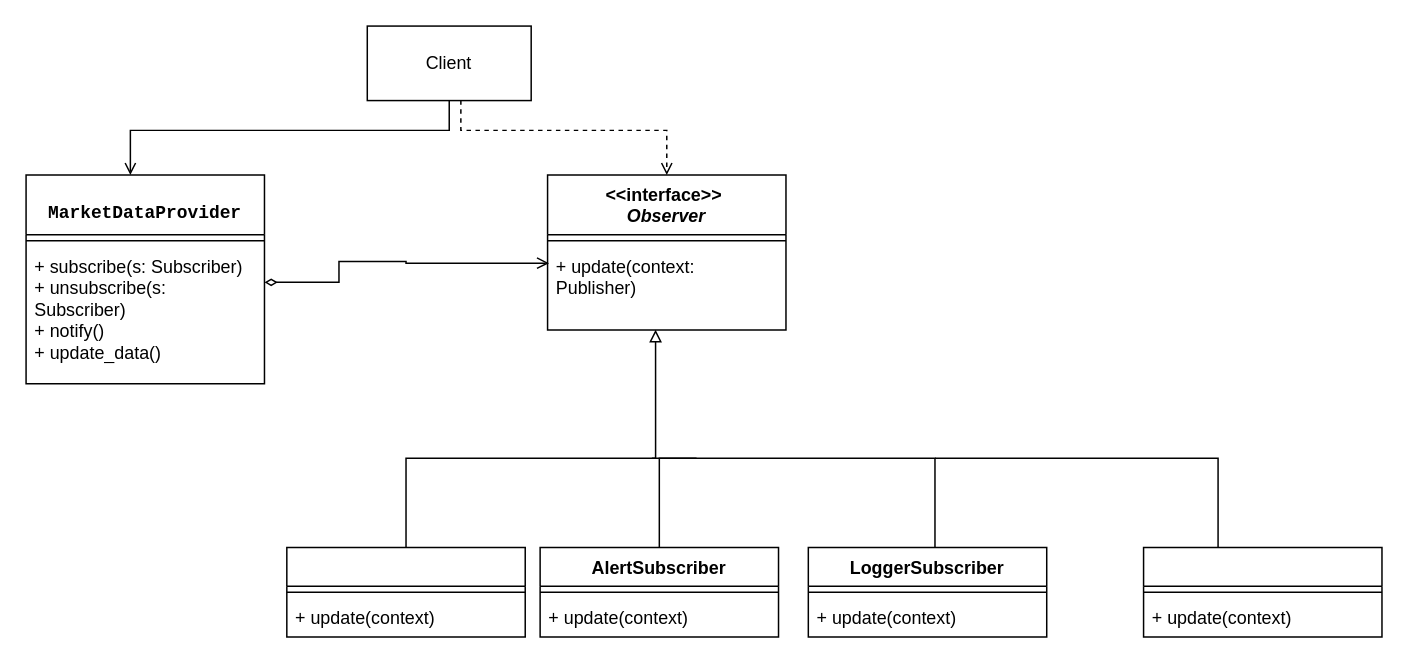
Some shapes in this 1408 by 668 pixel diagram are drawn without their labels. The box of each missing label's shape, as (x1, y1, x2, y2) in pixels:
GraphSubscriber: (285, 546, 525, 637)
MLSubscriber: (1142, 546, 1382, 637)
